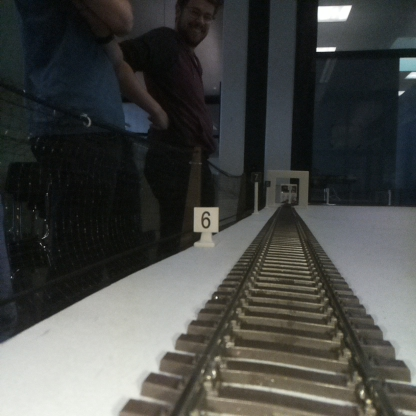black-info-7: (252, 171, 261, 214)
white-stop-6: (193, 206, 218, 247)
